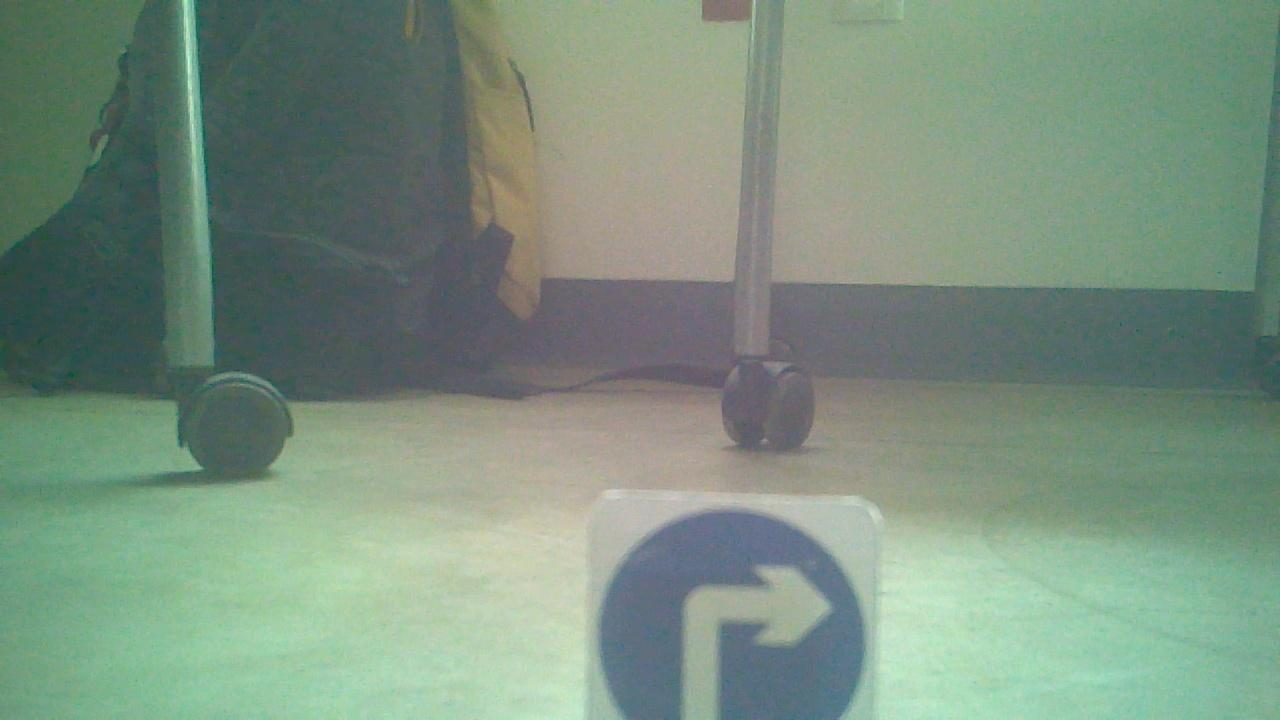turn: (591, 490, 864, 717)
